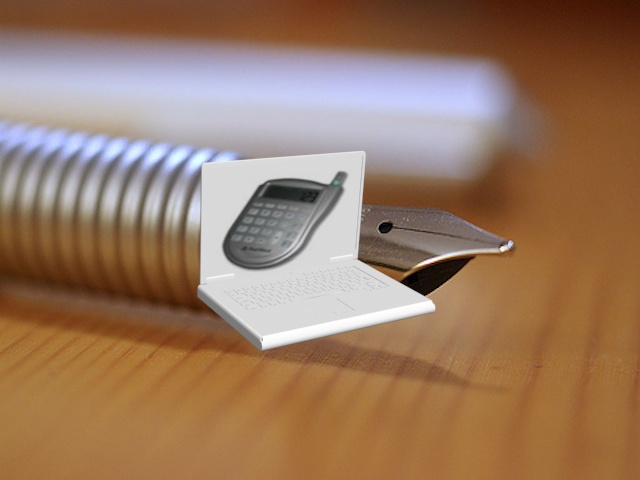laptop_computer: (193, 145, 440, 352)
